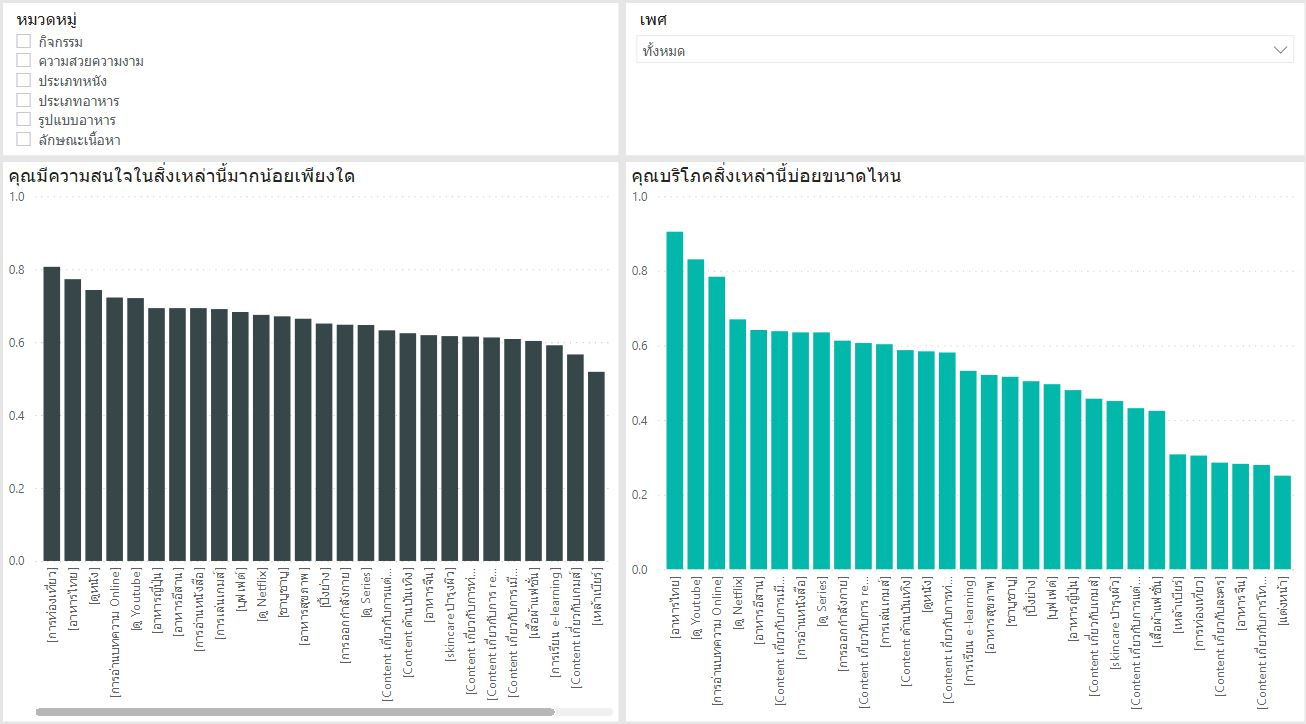

The page's visual inventory and layout, read from the dashboard file:
{"tool":"powerbi","page":{"name":"เรื่องอะไรที่คนสนใจมากที่สุด","canvas":[1280,720],"ordinal":0},"visuals":[{"type":"slicer","fields":{"Values":["mean.Category"]},"box":[36,24.4,191.9,147.1],"z":0},{"type":"columnChart","fields":{"Y":["Sum(mean.Value)"],"Category":["mean.Interest"]},"box":[59.4,233.8,523.1,423.7],"z":1},{"type":"slicer","fields":{"Values":["mean.Mean Type"]},"box":[653.6,35.1,336.1,74],"z":3},{"type":"columnChart","fields":{"Y":["Sum(mean.Value)"],"Category":["mean.Interest"]},"box":[653.6,232.8,544.5,424.7],"z":4}]}

Visuals, with their boxes in screenshot pixels (x1, y1, x2, y2), scaled from the page's 1280x720 canvas onto the 1306x724 screenshot:
slicer - mean.Category: (left=37, top=25, right=233, bottom=172)
columnChart - Sum(mean.Value) x mean.Interest: (left=61, top=235, right=594, bottom=661)
slicer - mean.Mean Type: (left=667, top=35, right=1010, bottom=110)
columnChart - Sum(mean.Value) x mean.Interest: (left=667, top=234, right=1222, bottom=661)
